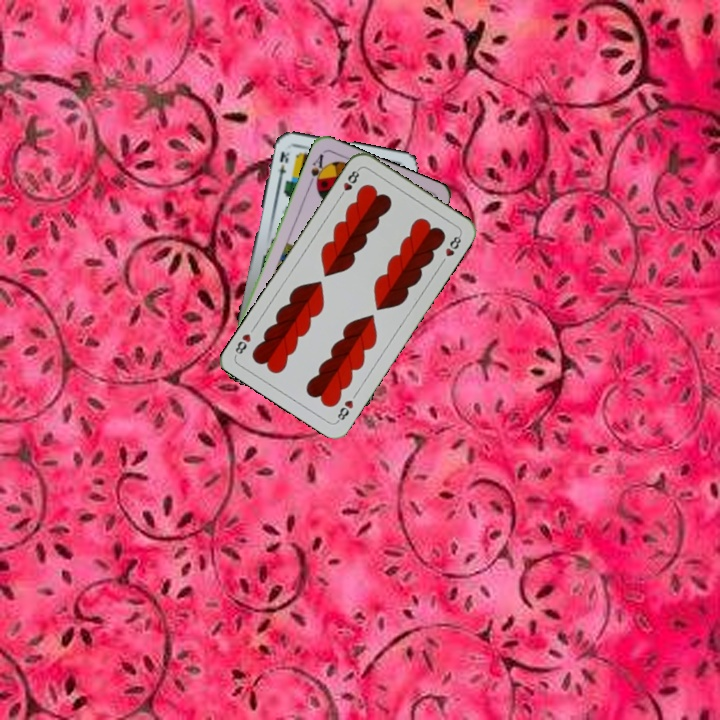EK: (274, 147, 292, 183)
H8: (335, 165, 362, 201), (333, 396, 356, 425)
SA: (307, 150, 329, 190)
